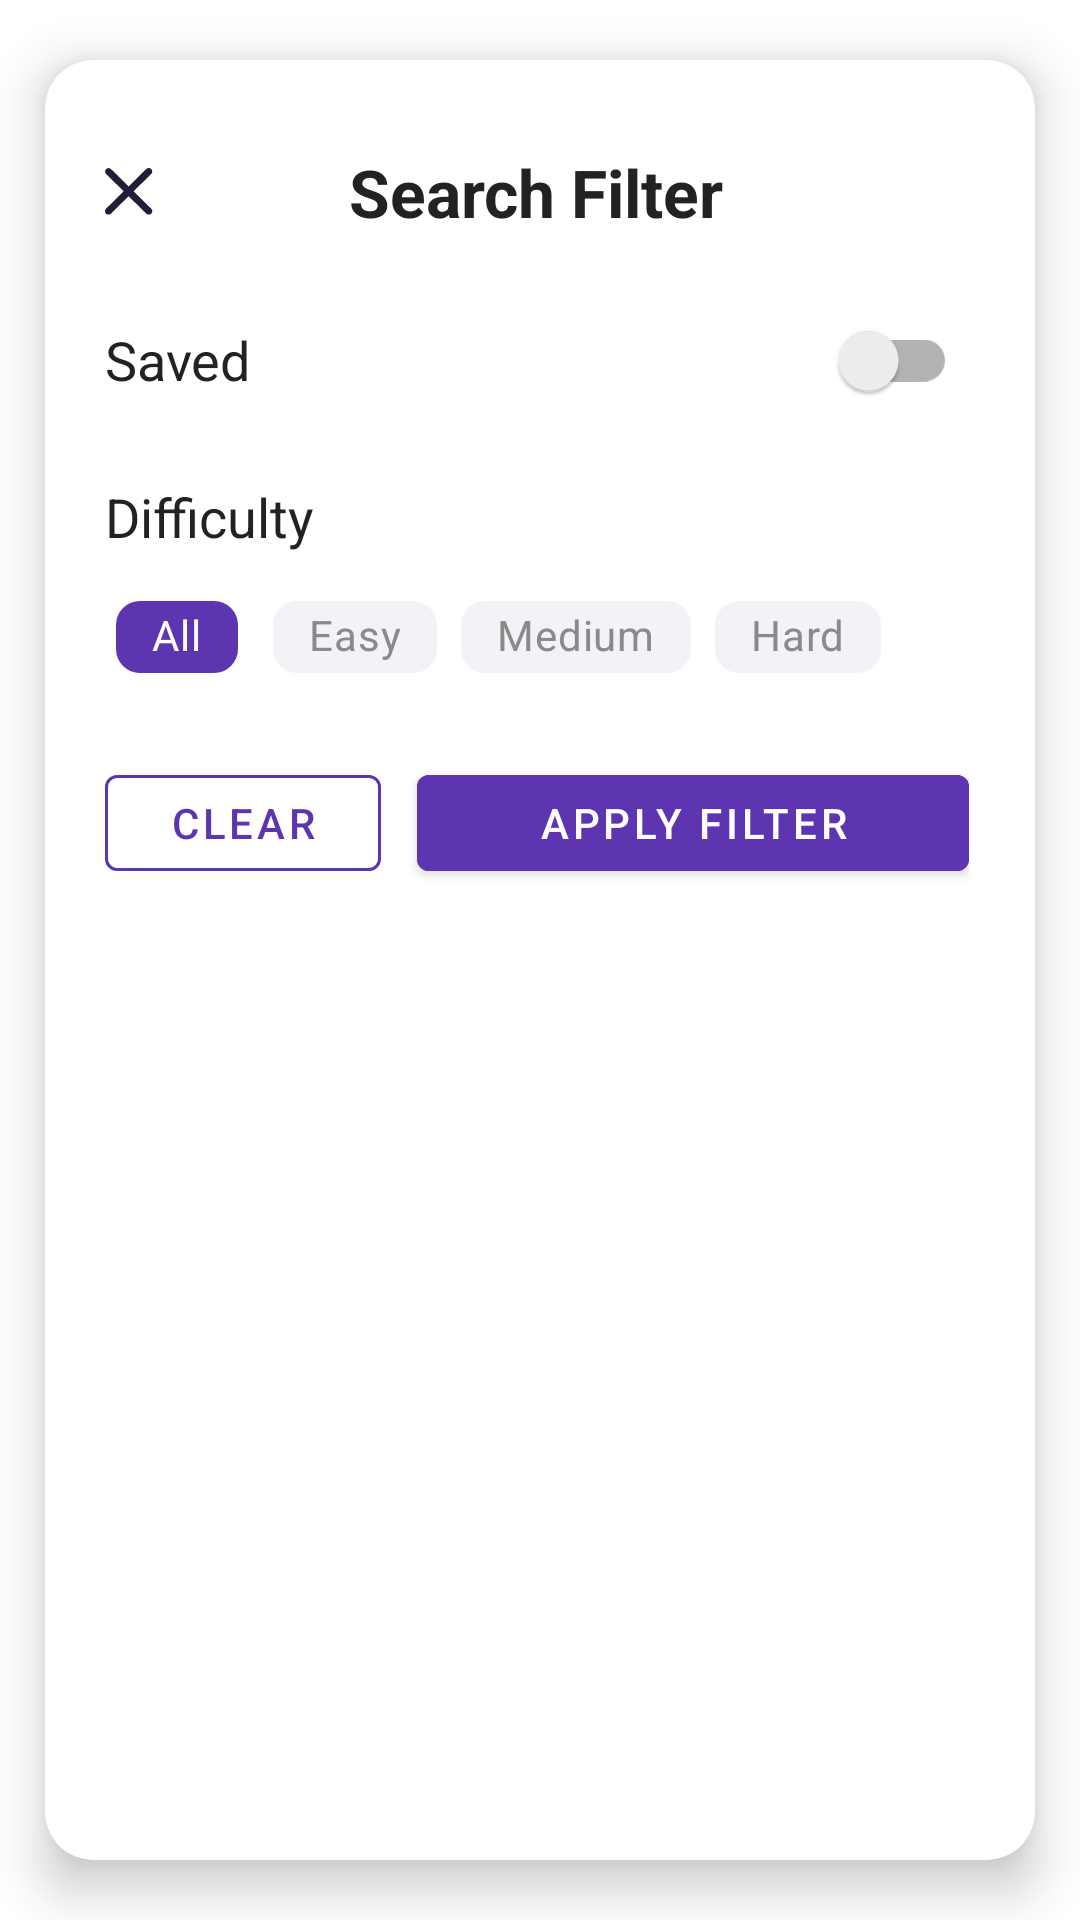

Where icons sit on this 1080 × 1920 app screen, as (x1, y1, x2, y2):
Close filter: (105, 168, 153, 215)
